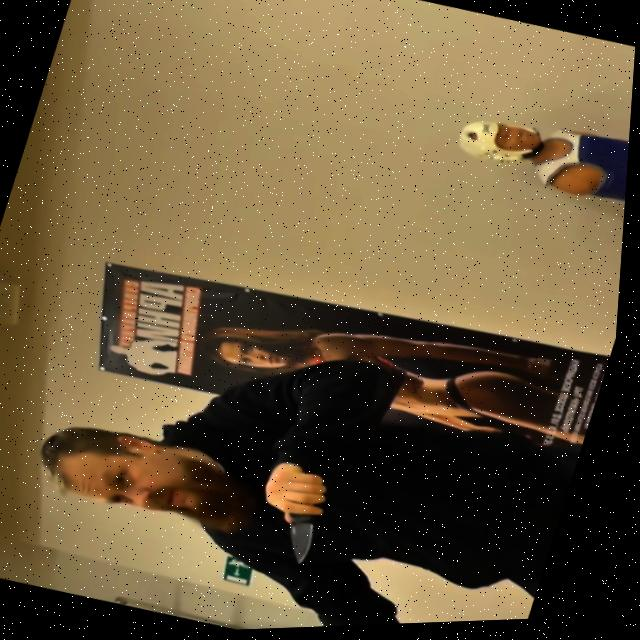knife: (284, 508, 333, 570)
